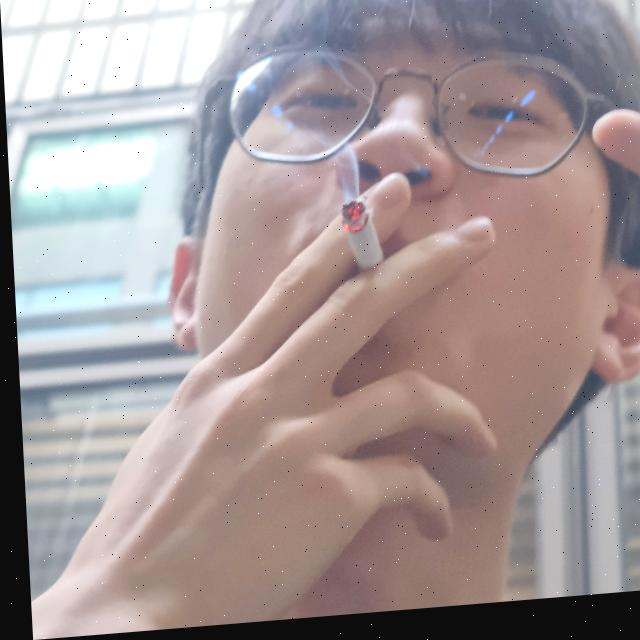cigarette: (337, 202, 384, 281)
